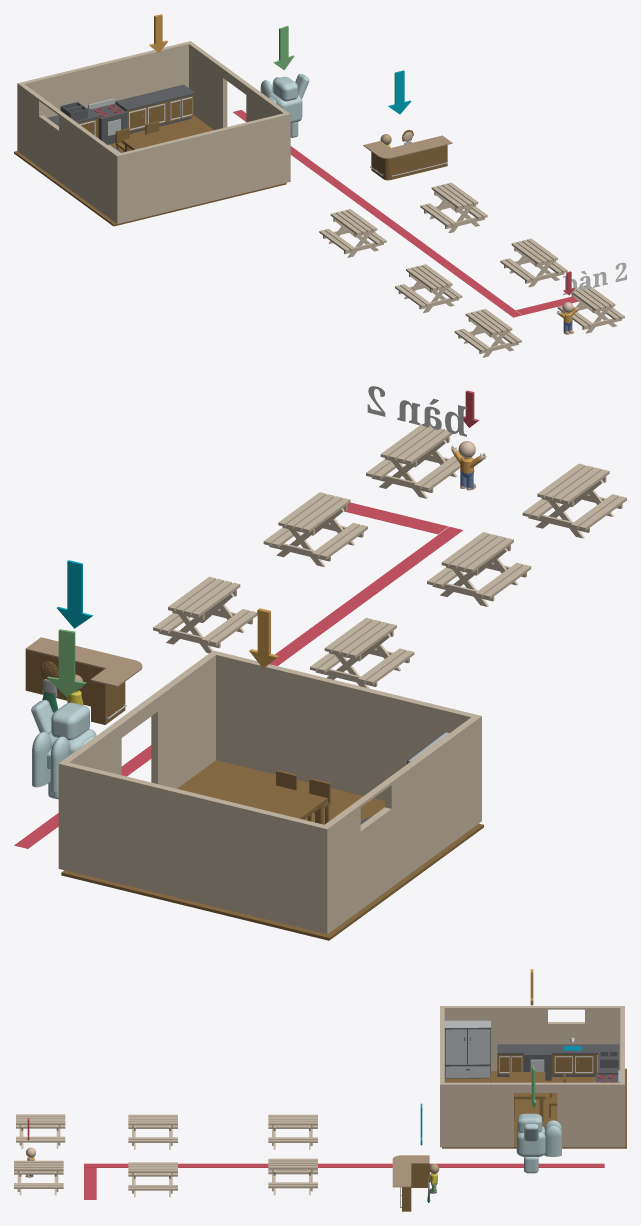
File: map2.glb
3 renders of one model, top to bottom at view 1: azimuth 30°, elevation 25°; view 2: azimuth 150°, elevation 25°; view 3: azimuth 270°, elevation 25°, orthographic. The views are drawn at different scales.
Visible parts, largest first — view 1: Mesh_Mesh_head_geo.001_lambert2SG.001; view 2: Mesh_Mesh_head_geo.001_lambert2SG.001; view 3: Mesh_Mesh_head_geo.001_lambert2SG.001.
Boxes of the visible parts, <box> form: Mesh_Mesh_head_geo.001_lambert2SG.001: <box>14,14,626,357</box>; Mesh_Mesh_head_geo.001_lambert2SG.001: <box>14,386,626,940</box>; Mesh_Mesh_head_geo.001_lambert2SG.001: <box>14,969,626,1211</box>.
Size of the model in its own units: 0.3613 by 0.169 by 0.6629.
